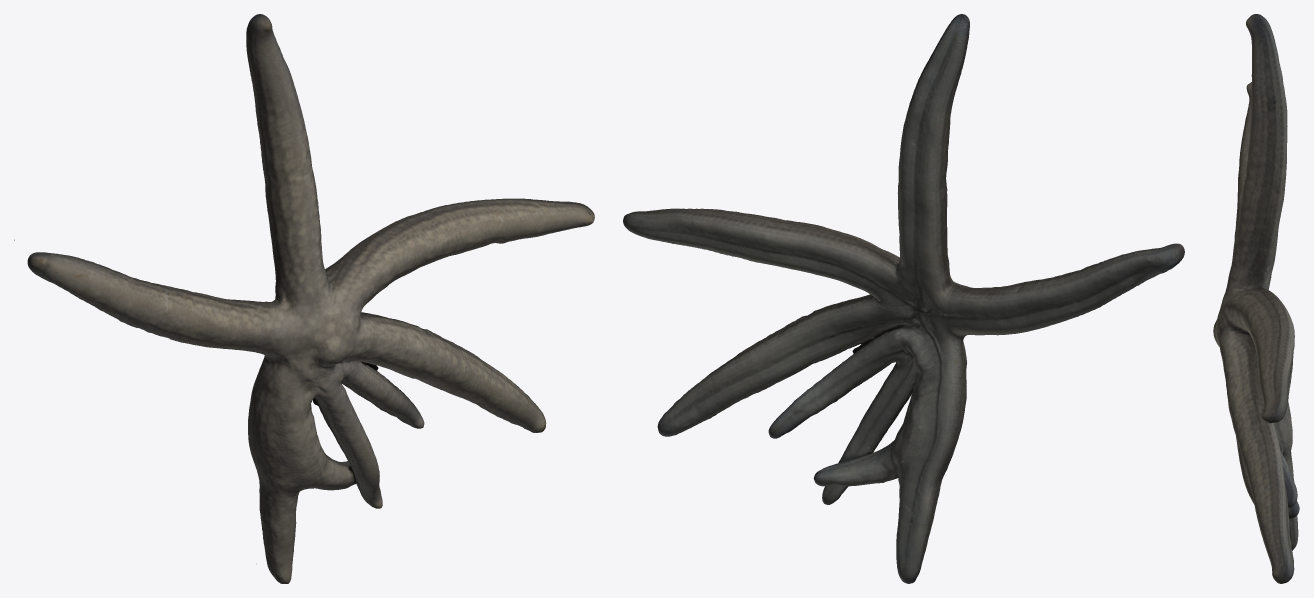
The model's file is linckia_laevigata.glb.
3 renders of one model, left to right at view 1: azimuth 30°, elevation 25°; view 2: azimuth 150°, elevation 25°; view 3: azimuth 270°, elevation 25°, orthographic. The views are drawn at different scales.
Visible parts, largest first — view 1: Object_4; view 2: Object_4; view 3: Object_4.
Part boxes in pixels (<box>): Object_4: <box>14,14,594,583</box>; Object_4: <box>623,14,1184,583</box>; Object_4: <box>1213,14,1299,583</box>.
Size of the model in its own units: 0.1603 by 0.1575 by 0.0235.
Materials: 1 (1 with a texture image).
